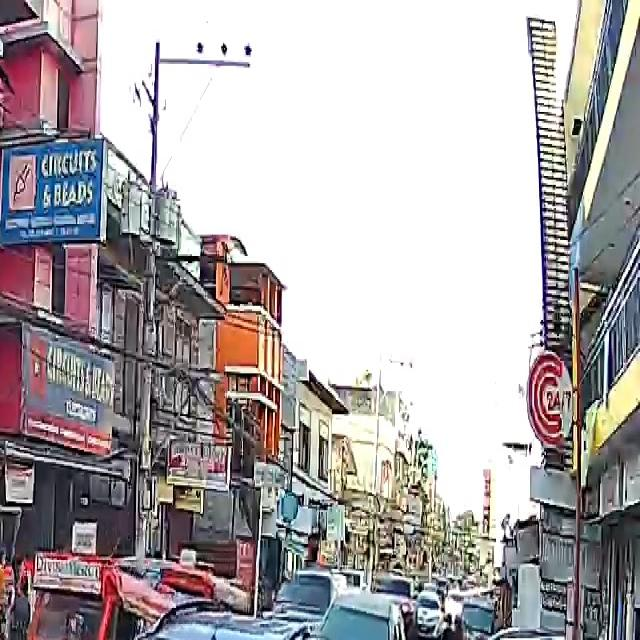car: (20, 530, 122, 640), (267, 573, 347, 628), (316, 595, 412, 640), (468, 624, 583, 640)
